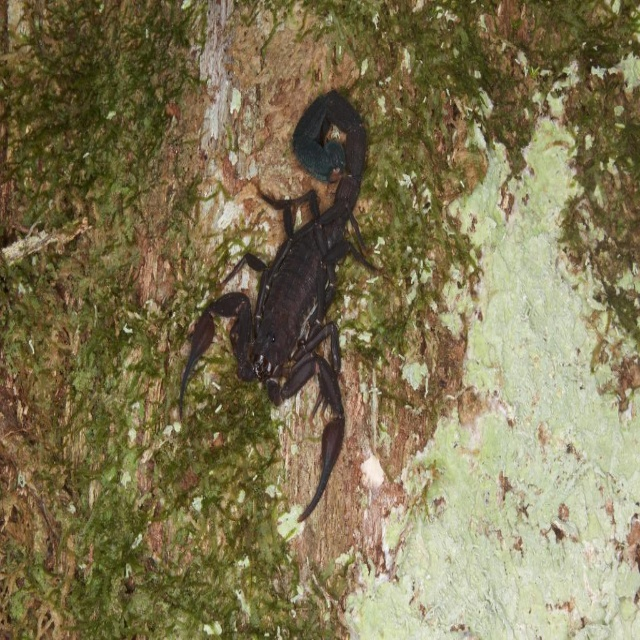Scorpion: (179, 90, 389, 519)
